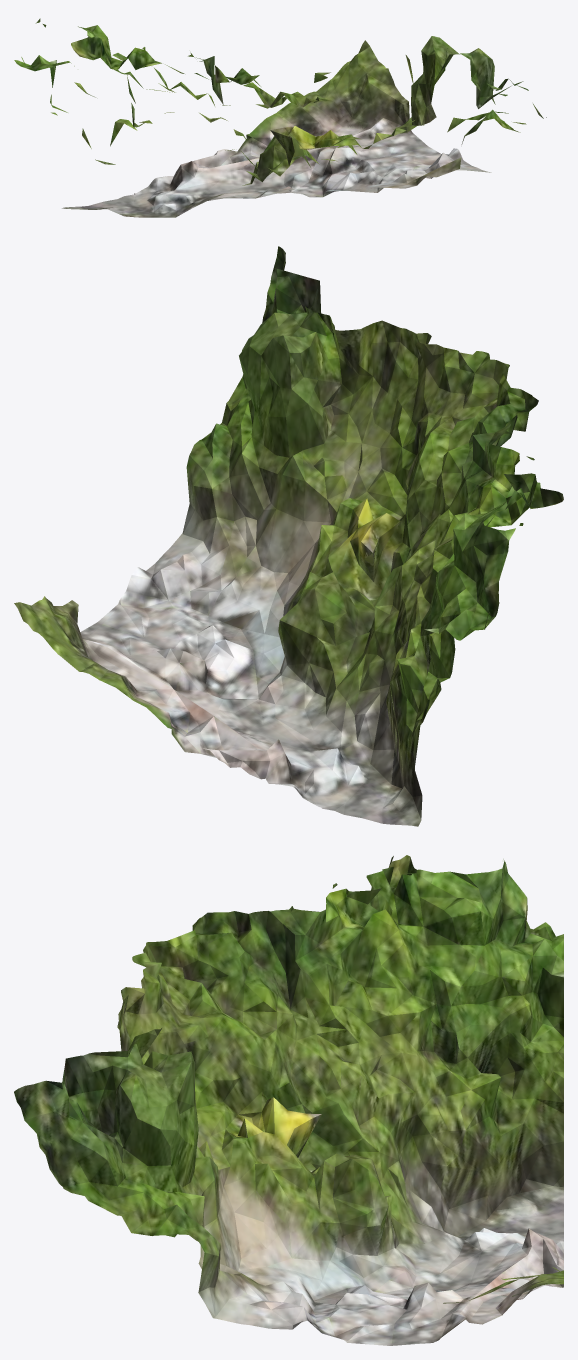
3 renders of one model, top to bottom at view 1: azimuth 30°, elevation 25°; view 2: azimuth 150°, elevation 25°; view 3: azimuth 270°, elevation 25°, orthographic. The views are drawn at different scales.
Bounding box in the file's own units: 26.11 × 15.74 × 25.57.
3 materials, 3 textured.
